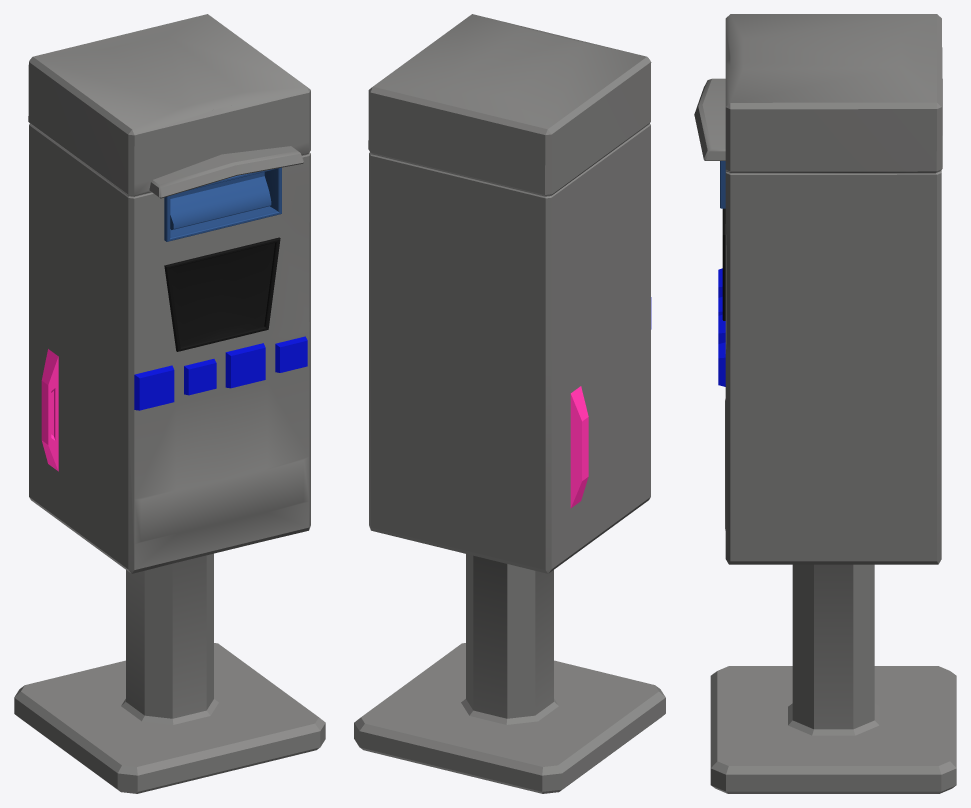
The picture shows the model from 3 angles, left to right: view 1: azimuth 30°, elevation 25°; view 2: azimuth 150°, elevation 25°; view 3: azimuth 270°, elevation 25°; orthographic projection. The views are drawn at different scales.
Parts seen in each view (by area): view 1: Box059; view 2: Box059; view 3: Box059.
Boxes of the visible parts, box(x1,y1,x2,y2) form: Box059: box(14, 14, 325, 793); Box059: box(354, 14, 665, 793); Box059: box(694, 14, 956, 793).
Size of the model in its own units: 24.05 by 73.4 by 25.27.
